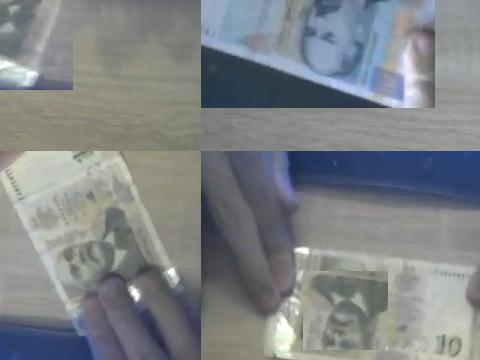10leva: (303, 271, 388, 350)
20leva: (201, 0, 435, 108)
